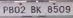character: (35, 5, 41, 14), (19, 5, 25, 13), (2, 6, 8, 13), (7, 6, 13, 13), (14, 5, 19, 13), (30, 5, 35, 13), (47, 5, 52, 13), (53, 5, 58, 13), (59, 5, 64, 13), (65, 5, 70, 13)
